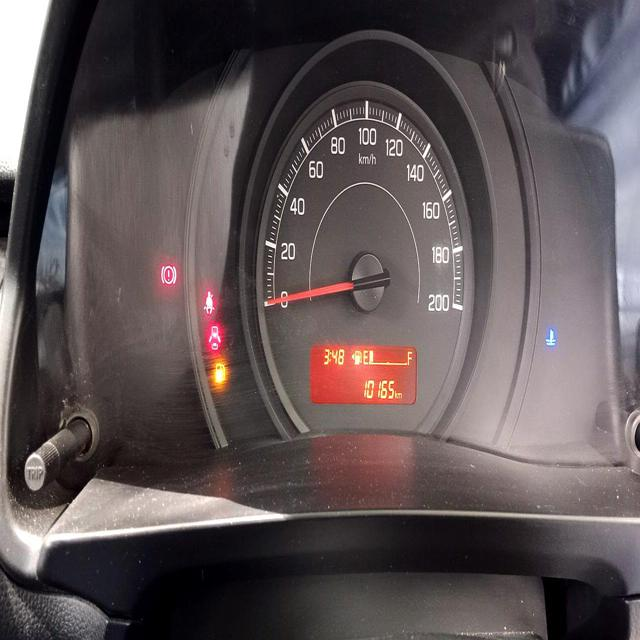odometer: (361, 376, 396, 402)
